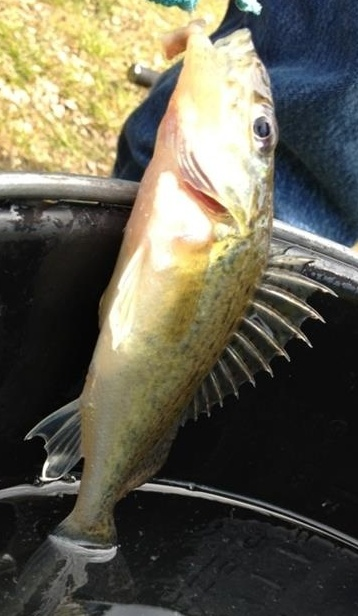Gymnocephalus cernuus: (20, 20, 338, 596)
